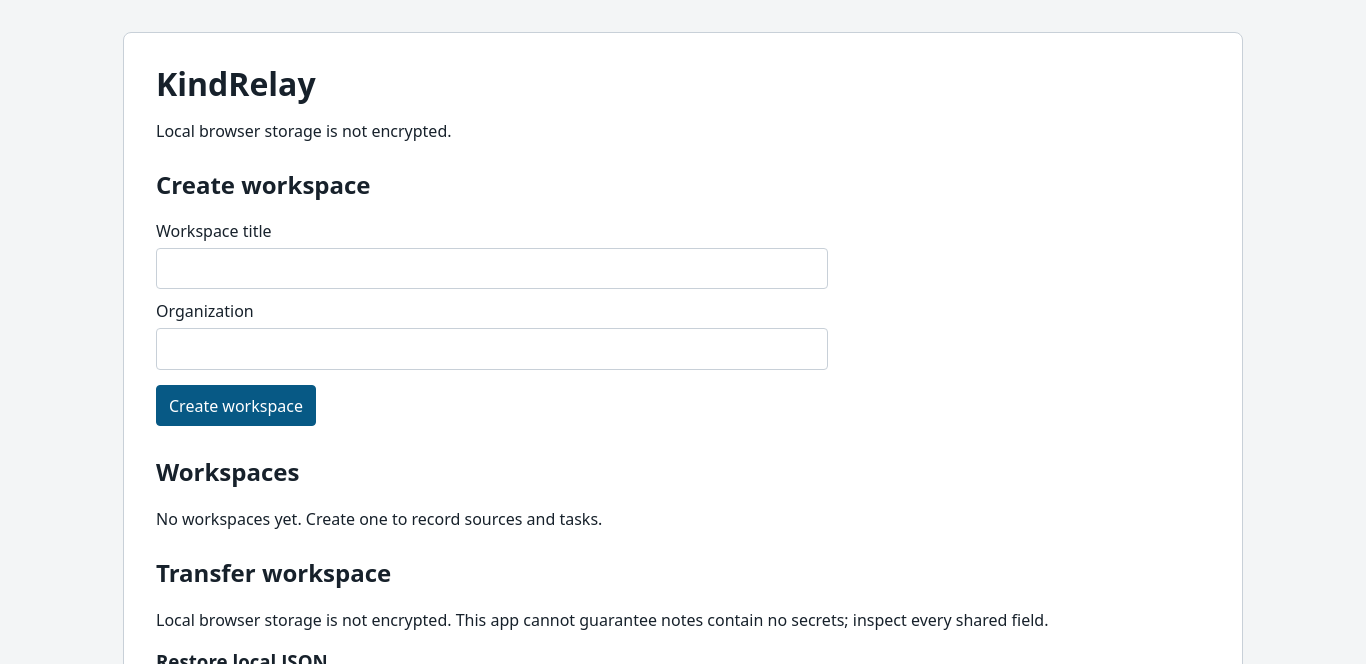
Test: KindRelay workspace editor › preserves a real stale-revision header edit and requires explicit reload confirmation rather than overwrite
In the field labelled "Workspace title": [492, 268] box [156,248,828,289], type "October handover"
In the field labelled "Organization": [492, 349] box [156,328,828,370], type "Kind Org"
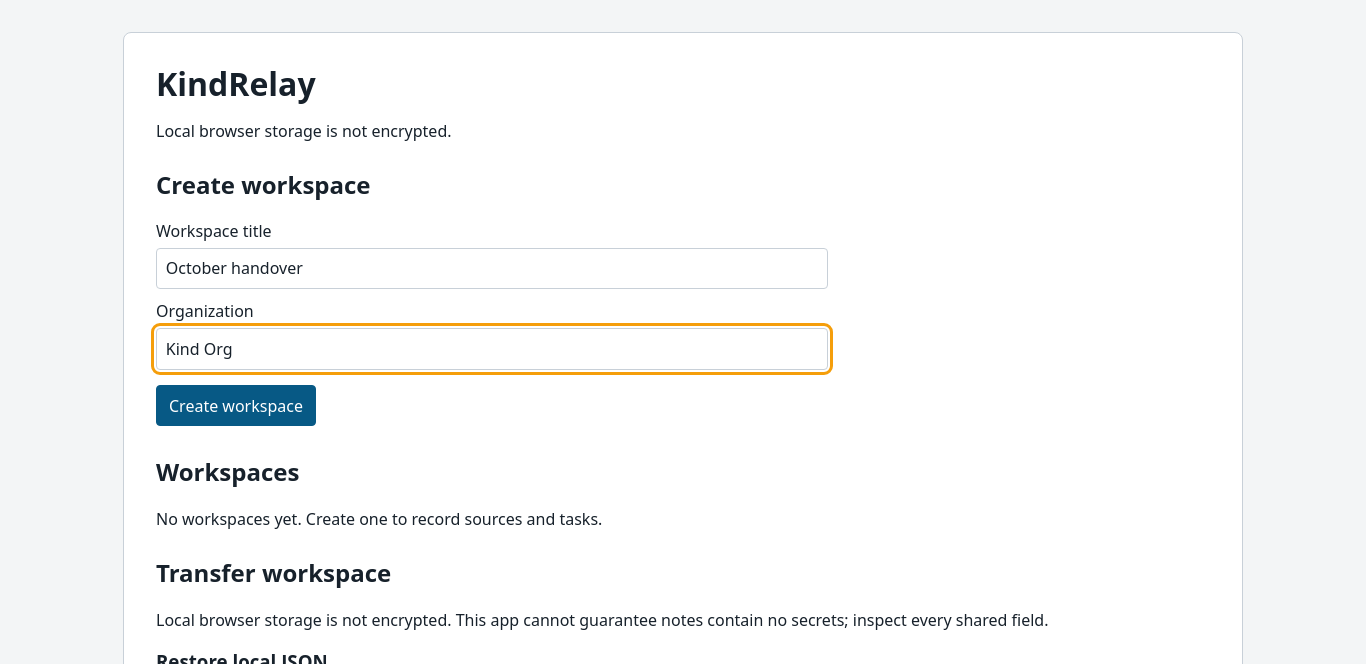
Click the button "Create workspace": [236, 406] box [156,385,316,426]
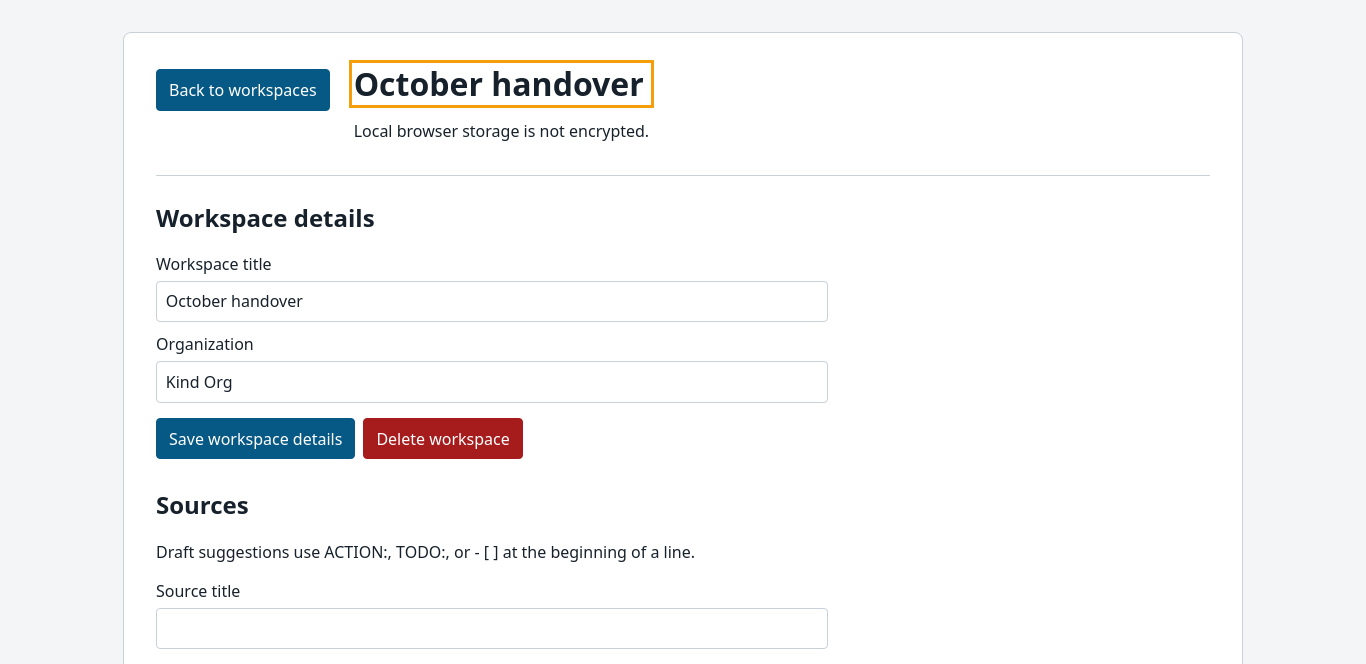
Expected: the heading "October handover" is shown, [354,65,649,103]
Replace the text in the field labelled "Workspace title" with "Keep my wording": [492, 302] box [156,281,828,322]
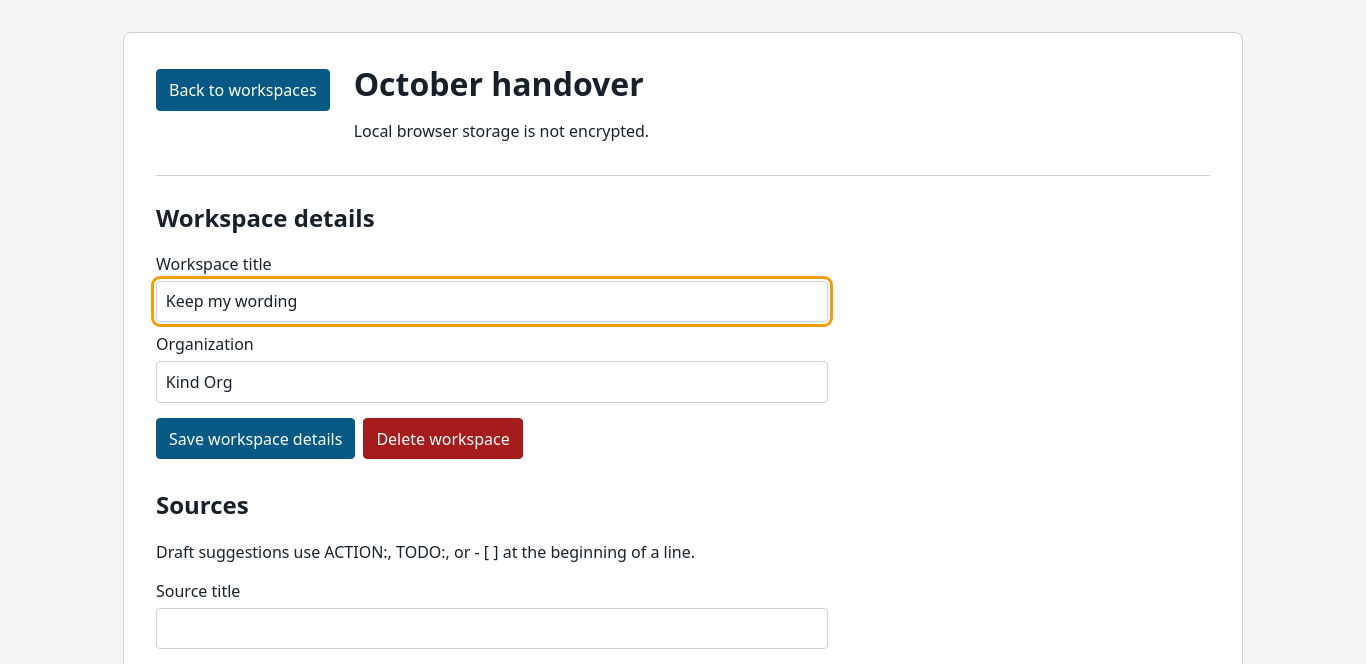
Click the button "Save workspace details": [256, 439] box [156,418,355,459]
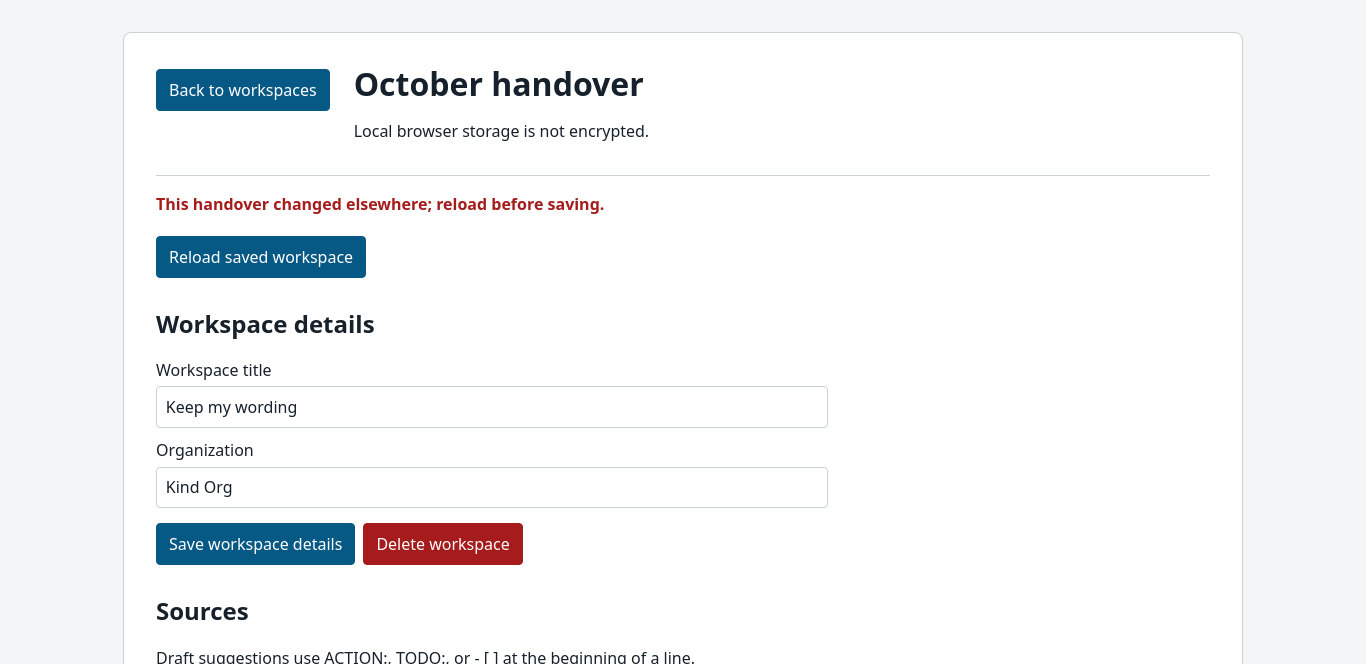
Expected: the message shows "changed elsewhere", [156,193,604,215]
Expected: the button "Reload saved workspace" is shown
Click the button "Reload saved workspace": [261, 257] box [156,236,366,278]
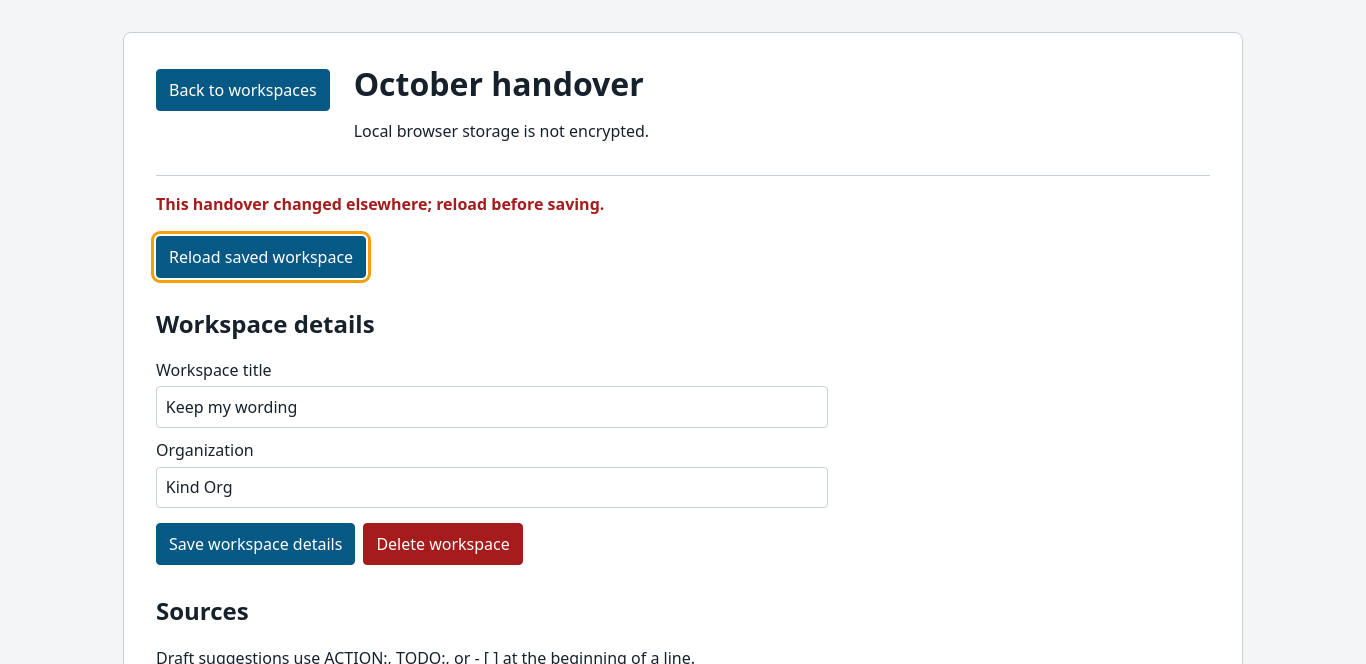
Click the button "Reload saved workspace": [261, 257] box [156,236,366,278]
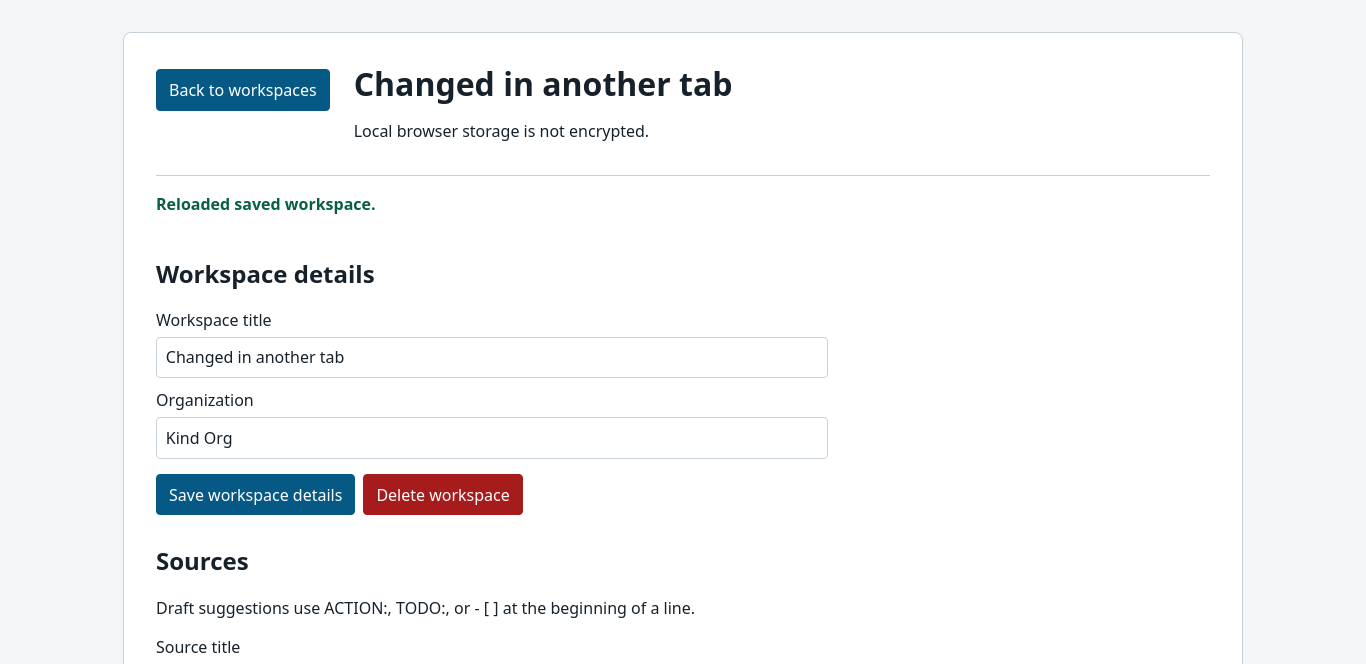
Expected: the field showing "Changed in another tab" is shown, [156,337,828,378]
